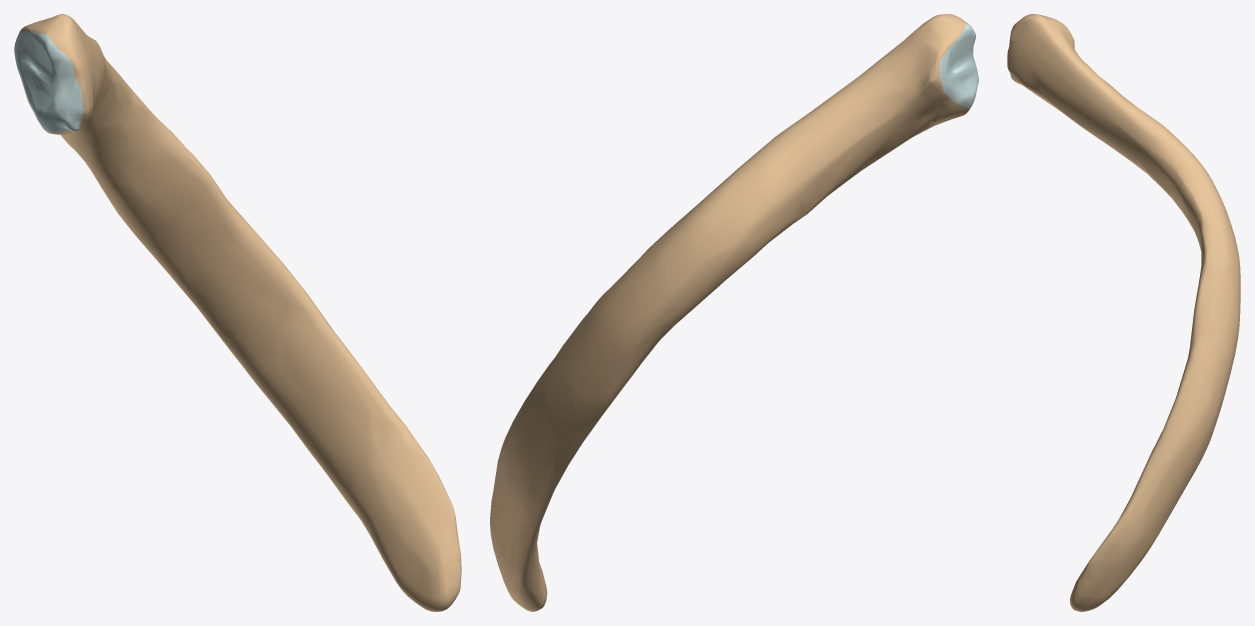
The model's file is 12th_rib.l_Generated_Mesh_From_X3D.895.glb.
3 views of the same model, side by side, from view 1: azimuth 30°, elevation 25°; view 2: azimuth 150°, elevation 25°; view 3: azimuth 270°, elevation 25° (orthographic). The views are drawn at different scales.
Parts seen in each view (by area): view 1: 12th_rib.l_Generated_Mesh_From_X3D.895; view 2: 12th_rib.l_Generated_Mesh_From_X3D.895; view 3: 12th_rib.l_Generated_Mesh_From_X3D.895.
Boxes of the visible parts, x1,y1,x2,y2 form: 12th_rib.l_Generated_Mesh_From_X3D.895: (14,14,461,611); 12th_rib.l_Generated_Mesh_From_X3D.895: (490,14,978,611); 12th_rib.l_Generated_Mesh_From_X3D.895: (1007,14,1240,611).
Bounding box in the file's own units: 0.066 × 0.0979 × 0.0444.
